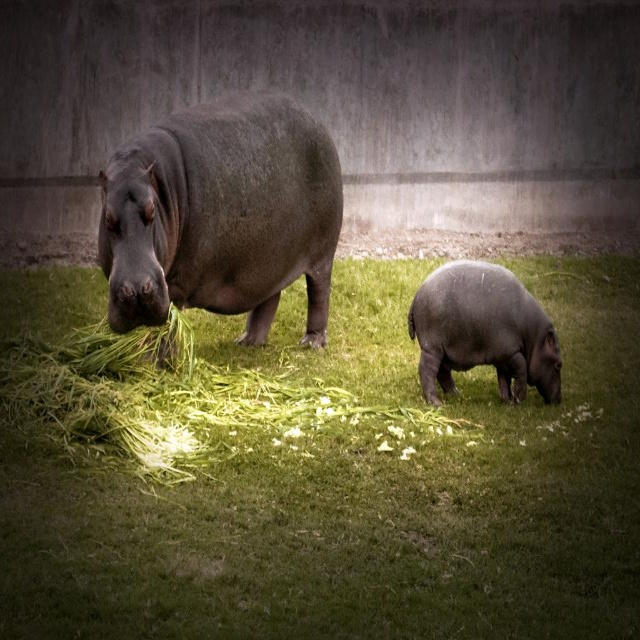Hippopotamus: (98, 82, 347, 350), (408, 260, 560, 402)
